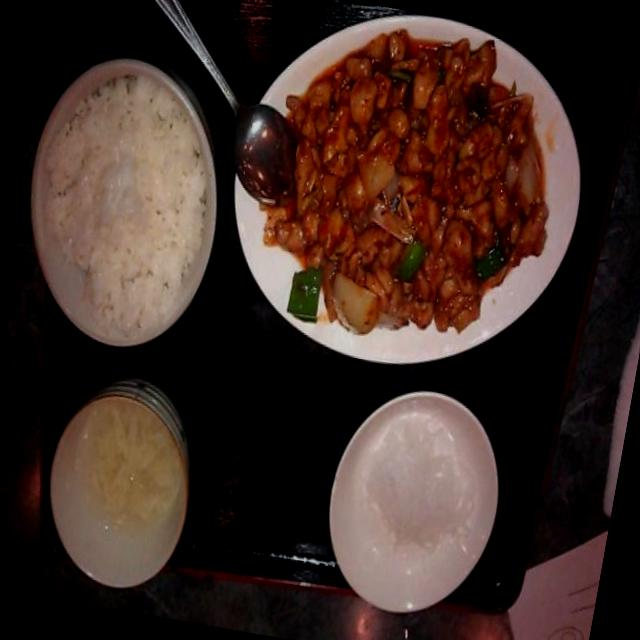Rice: (11, 70, 227, 348)
